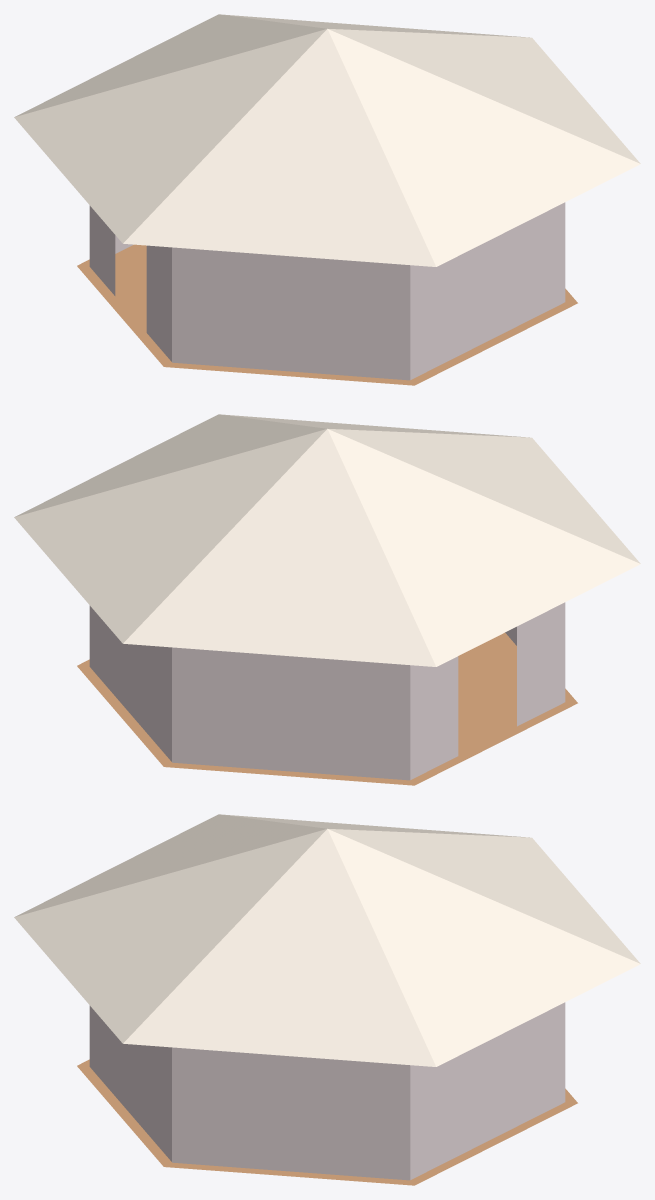
The model's file is zon_room_note_raw.glb.
The picture shows the model from 3 angles, top to bottom: view 1: azimuth 30°, elevation 25°; view 2: azimuth 150°, elevation 25°; view 3: azimuth 270°, elevation 25°; orthographic projection.
Visible parts, largest first — view 1: SM_zon_room_note_room_ceiling_x0_z0_raw, SM_zon_room_note_room_paper_x0_z0_raw, SM_zon_room_note_room_floor_x0_z0_raw; view 2: SM_zon_room_note_room_ceiling_x0_z0_raw, SM_zon_room_note_room_paper_x0_z0_raw, SM_zon_room_note_room_floor_x0_z0_raw; view 3: SM_zon_room_note_room_ceiling_x0_z0_raw, SM_zon_room_note_room_paper_x0_z0_raw, SM_zon_room_note_room_floor_x0_z0_raw.
Part boxes in pixels (x1=…): SM_zon_room_note_room_ceiling_x0_z0_raw: x1=14, y1=14, x2=640, y2=266; SM_zon_room_note_room_paper_x0_z0_raw: x1=89, y1=202, x2=565, y2=380; SM_zon_room_note_room_floor_x0_z0_raw: x1=77, y1=244, x2=577, y2=385; SM_zon_room_note_room_ceiling_x0_z0_raw: x1=14, y1=414, x2=640, y2=666; SM_zon_room_note_room_paper_x0_z0_raw: x1=89, y1=602, x2=565, y2=780; SM_zon_room_note_room_floor_x0_z0_raw: x1=77, y1=632, x2=577, y2=785; SM_zon_room_note_room_ceiling_x0_z0_raw: x1=14, y1=814, x2=640, y2=1066; SM_zon_room_note_room_paper_x0_z0_raw: x1=89, y1=1002, x2=565, y2=1180; SM_zon_room_note_room_floor_x0_z0_raw: x1=77, y1=1059, x2=577, y2=1185.
Bounding box in the file's own units: 12.45 × 5.9 × 13.05.
